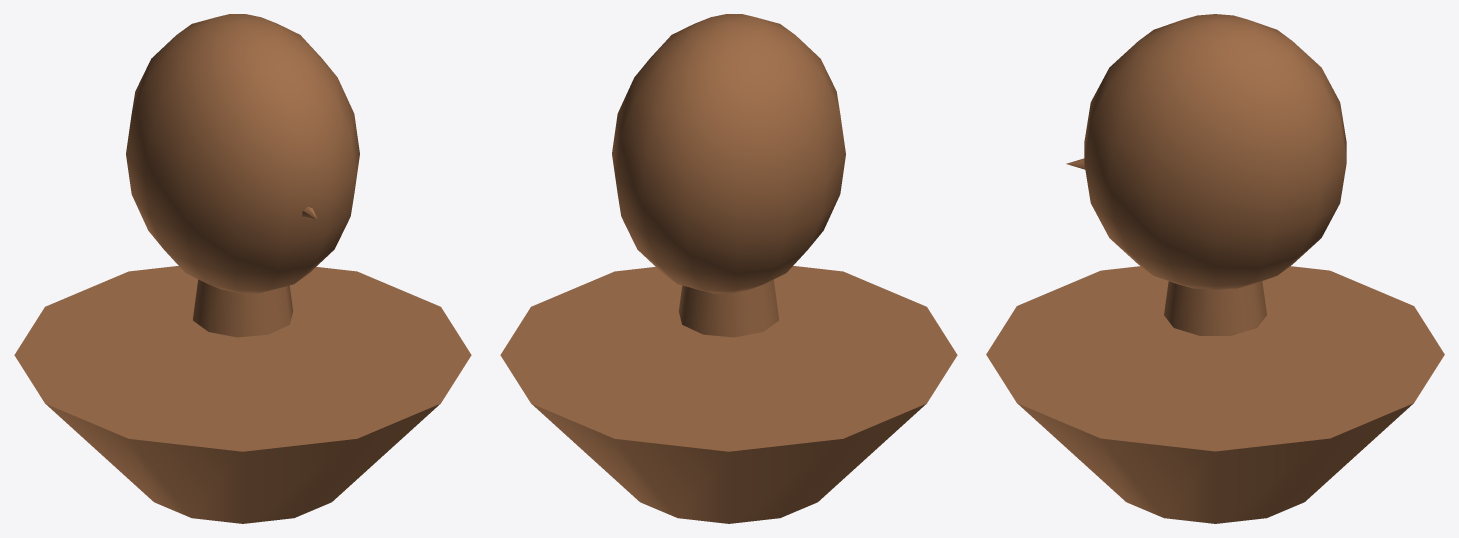
File: portrait09m_003.glb
The picture shows the model from 3 angles, left to right: view 1: azimuth 30°, elevation 25°; view 2: azimuth 150°, elevation 25°; view 3: azimuth 270°, elevation 25°; orthographic projection.
Bounding box in the file's own units: 1.87 × 2.06 × 1.87.
